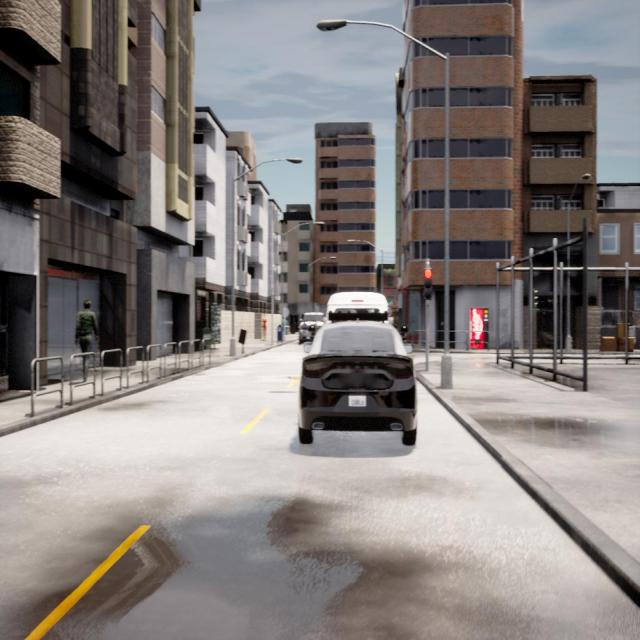Pedestrian: (75, 300, 99, 382), (261, 314, 268, 341)
Traffic_Signs: (282, 307, 290, 317)
Vehicle: (300, 315, 416, 445), (326, 292, 388, 313), (299, 312, 325, 343)
traffic_light: (424, 267, 432, 300), (532, 288, 539, 310)
